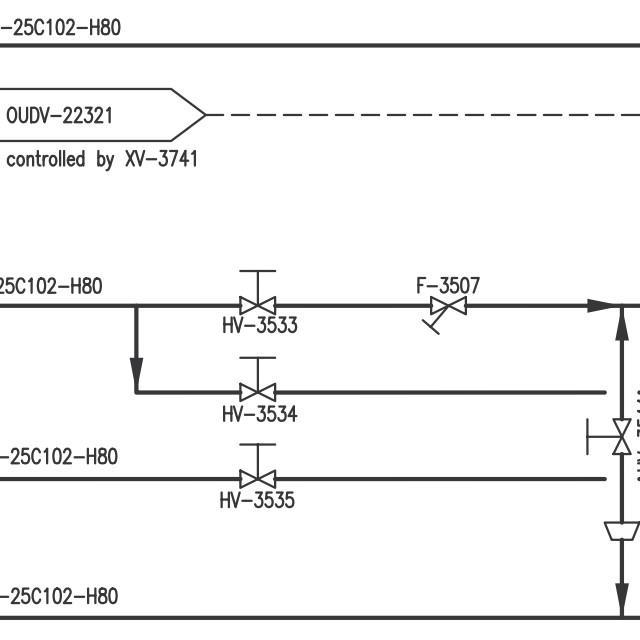HVWT: (575, 415, 634, 459), (234, 438, 282, 492), (232, 265, 281, 316), (234, 354, 280, 402)
S: (421, 292, 473, 337)
SP: (595, 514, 640, 545)
